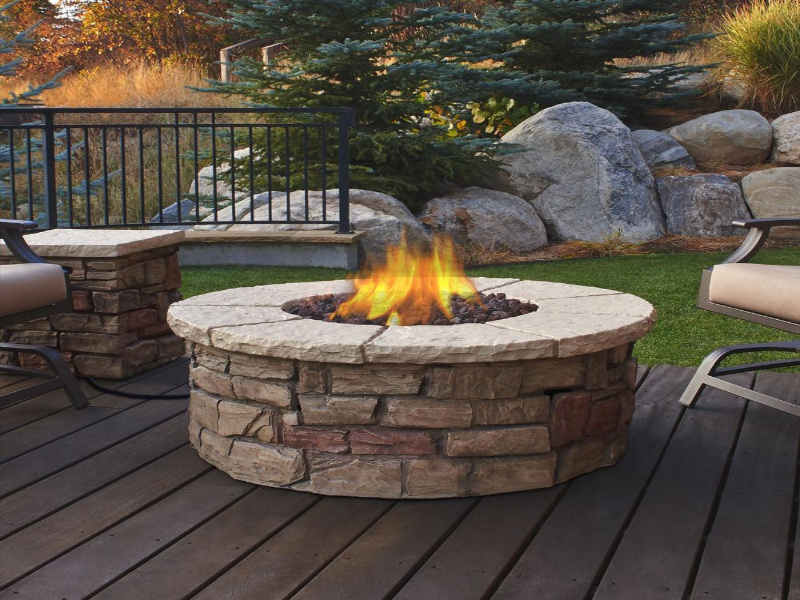fire: (337, 231, 476, 312)
